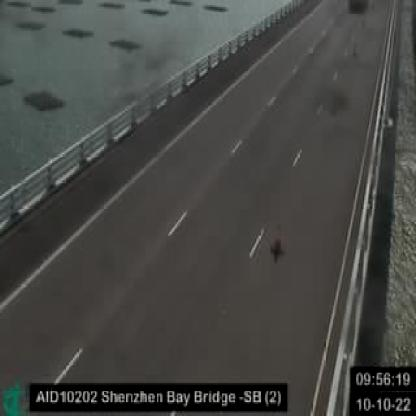Car: (349, 1, 368, 12)
